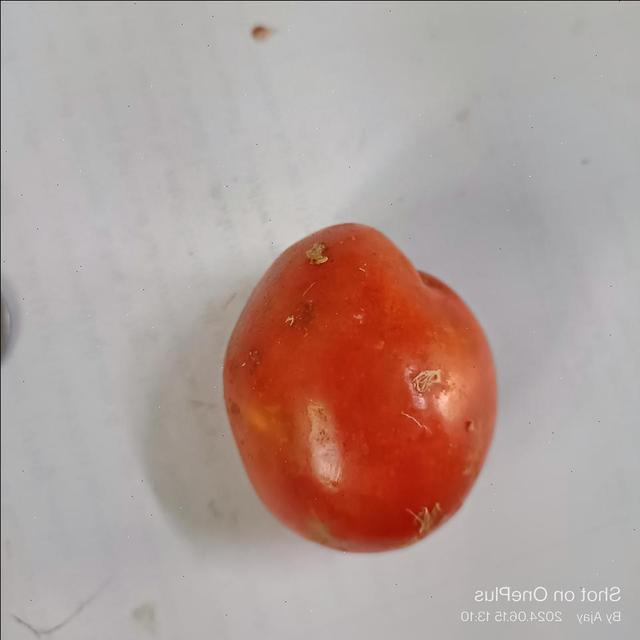Bacterial Spot Fruit: (198, 159, 223, 180)
